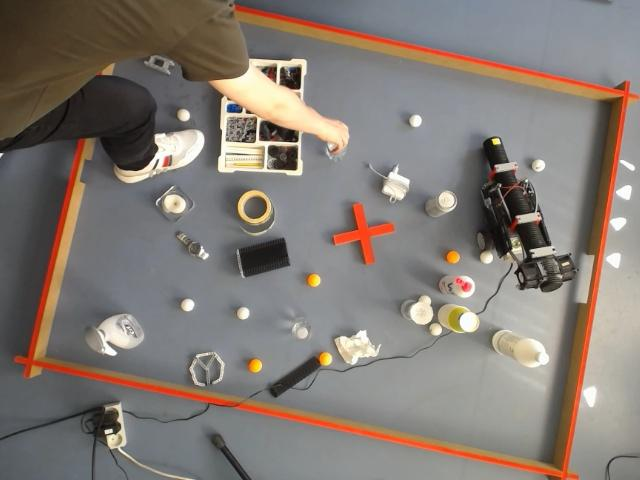orange: (305, 272, 323, 287), (248, 358, 264, 373), (318, 352, 334, 367), (446, 250, 460, 264)
robot: (478, 136, 578, 292)
robot-front: (484, 137, 508, 166)
white: (179, 297, 197, 313), (176, 106, 192, 123), (236, 305, 252, 322), (530, 158, 546, 174), (408, 113, 424, 127), (429, 323, 444, 337), (480, 251, 495, 264)
